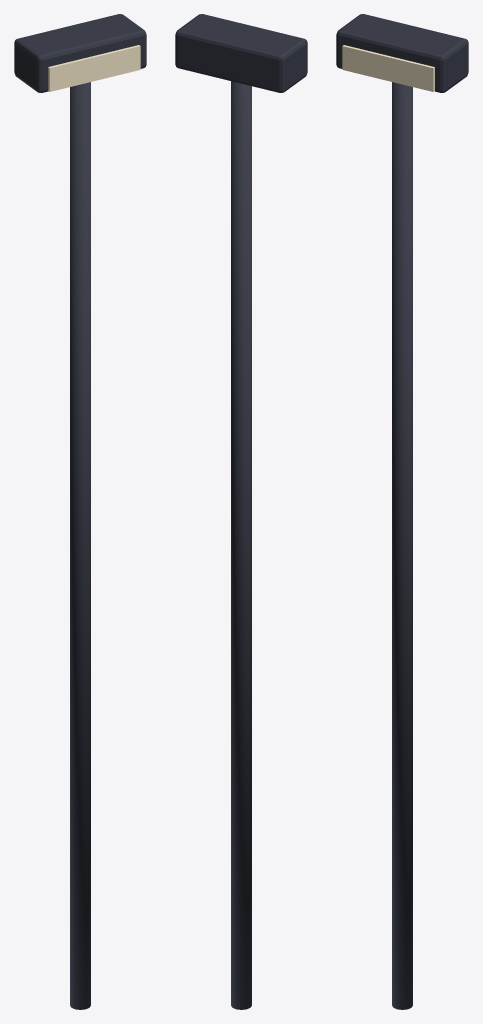
The model's file is Floodlight.fbx.
3 renders of one model, left to right at view 1: azimuth 30°, elevation 25°; view 2: azimuth 150°, elevation 25°; view 3: azimuth 330°, elevation 25°, orthographic.
Visible parts, largest first — view 1: Mast, LampHousing, LampLens; view 2: Mast, LampHousing; view 3: Mast, LampHousing, LampLens.
Boxes of the visible parts, x1,y1,x2,y2 form: Mast: (70, 82, 90, 1009); LampHousing: (14, 14, 146, 92); LampLens: (48, 45, 140, 91); Mast: (231, 81, 251, 1009); LampHousing: (175, 14, 307, 92); Mast: (392, 82, 412, 1009); LampHousing: (336, 14, 468, 92); LampLens: (342, 45, 434, 91).
Bounding box in the file's own units: 1.2 × 10.2 × 0.53.
